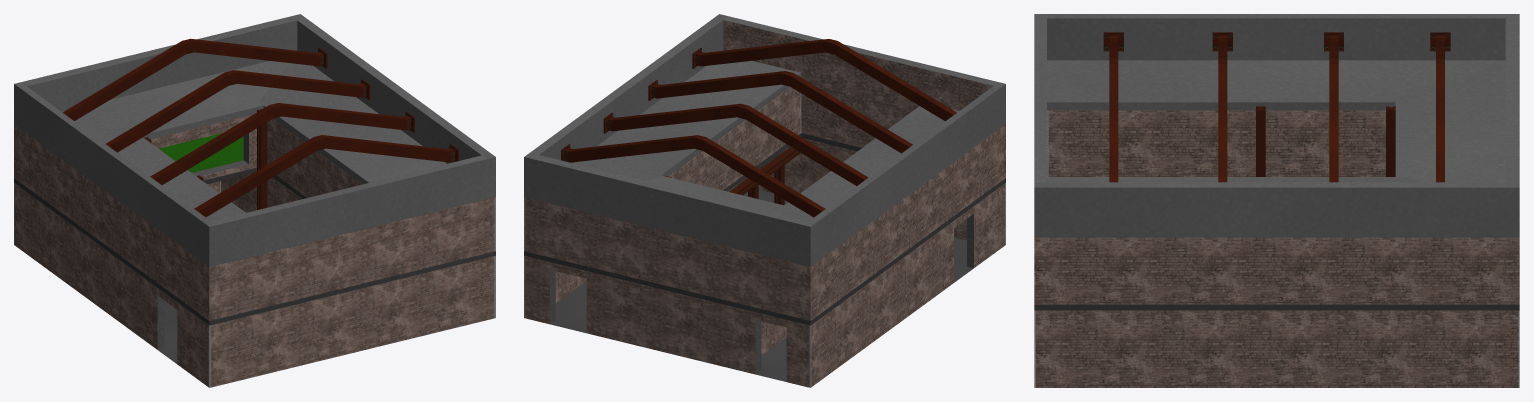
Rendered from Complex.fbx.
The picture shows the model from 3 angles, left to right: view 1: azimuth 30°, elevation 25°; view 2: azimuth 150°, elevation 25°; view 3: azimuth 270°, elevation 25°; orthographic projection. The views are drawn at different scales.
Parts seen in each view (by area): view 1: Floor3Ground, Floor2, Floor1, Floor2Ground, Rafter3, Rafter2, Rafter0, Rafter1, Beams, Floor; view 2: Floor3Ground, Floor2, Floor1, Rafter2, Rafter0, Rafter1, Rafter3, Floor2Ground, Floor, Beams; view 3: Floor3Ground, Floor2, Floor1, Floor2Ground, Rafter1, Rafter0, Rafter2, Rafter3, Beams.
Boxes of the visible parts, left/top/right/bottom form: Floor3Ground: left=14, top=14, right=495, bottom=266; Floor2: left=14, top=114, right=495, bottom=320; Floor1: left=14, top=173, right=495, bottom=387; Floor2Ground: left=14, top=133, right=495, bottom=325; Rafter3: left=63, top=38, right=327, bottom=120; Rafter2: left=106, top=70, right=370, bottom=152; Rafter0: left=194, top=135, right=458, bottom=217; Rafter1: left=150, top=103, right=414, bottom=184; Beams: left=144, top=109, right=267, bottom=209; Floor: left=158, top=300, right=177, bottom=363; Floor3Ground: left=524, top=14, right=1005, bottom=266; Floor2: left=524, top=87, right=1005, bottom=320; Floor1: left=524, top=138, right=1005, bottom=387; Rafter2: left=603, top=103, right=868, bottom=185; Rafter0: left=692, top=39, right=956, bottom=121; Rafter1: left=648, top=71, right=912, bottom=153; Rafter3: left=561, top=135, right=825, bottom=217; Floor2Ground: left=524, top=133, right=1005, bottom=325; Floor: left=550, top=184, right=973, bottom=381; Beams: left=664, top=147, right=830, bottom=205; Floor3Ground: left=1034, top=14, right=1519, bottom=237; Floor2: left=1034, top=110, right=1519, bottom=304; Floor1: left=1034, top=310, right=1519, bottom=387; Floor2Ground: left=1034, top=304, right=1519, bottom=310; Rafter1: left=1212, top=32, right=1232, bottom=182; Rafter0: left=1103, top=32, right=1123, bottom=182; Rafter2: left=1324, top=32, right=1343, bottom=182; Rafter3: left=1430, top=32, right=1450, bottom=182; Beams: left=1256, top=106, right=1395, bottom=176.
Size of the model in its own units: 10.43 by 6.71 by 12.32.
Materials: 9 (9 with a texture image).
